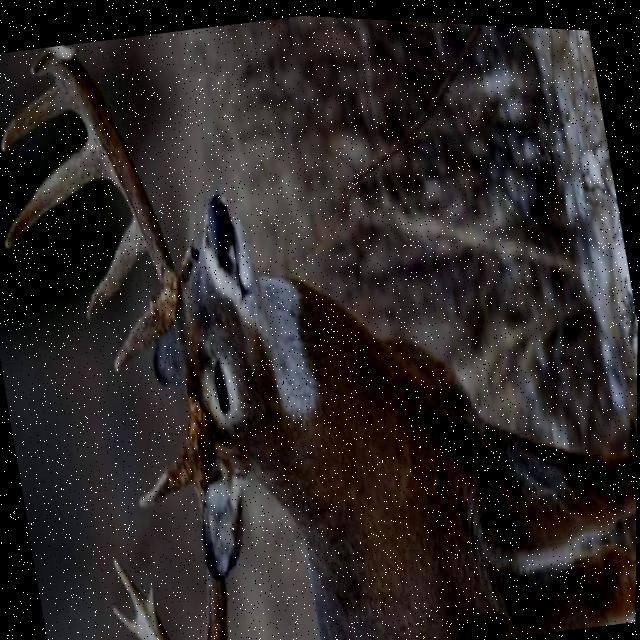E1: (29, 45, 55, 75)
L-F: (49, 43, 179, 315)
L-G1: (114, 285, 173, 370)
L-G2: (86, 213, 147, 319)
L-G3: (3, 130, 113, 248)
L-G4: (0, 78, 72, 152)
R-G1: (139, 430, 196, 505)
